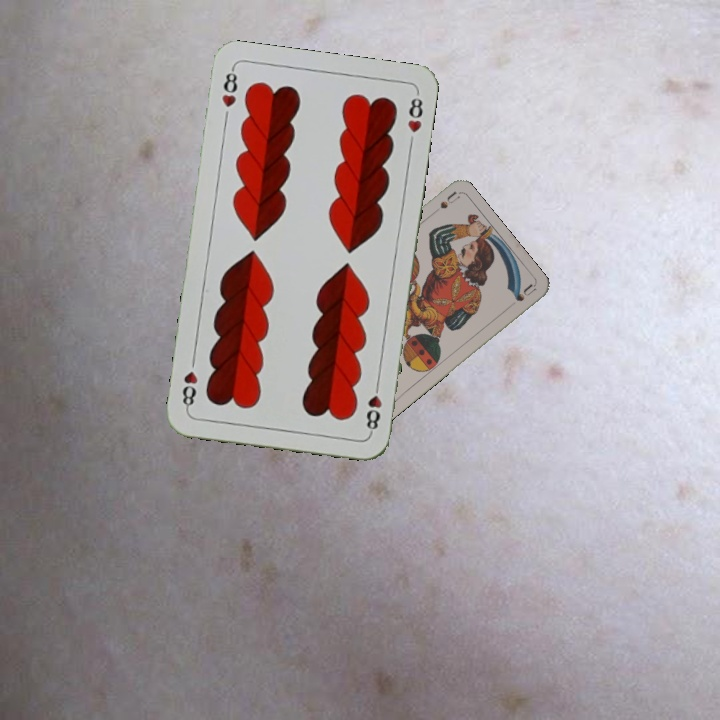H8: (362, 376, 384, 435), (218, 65, 240, 110)
SU: (425, 188, 462, 220)
